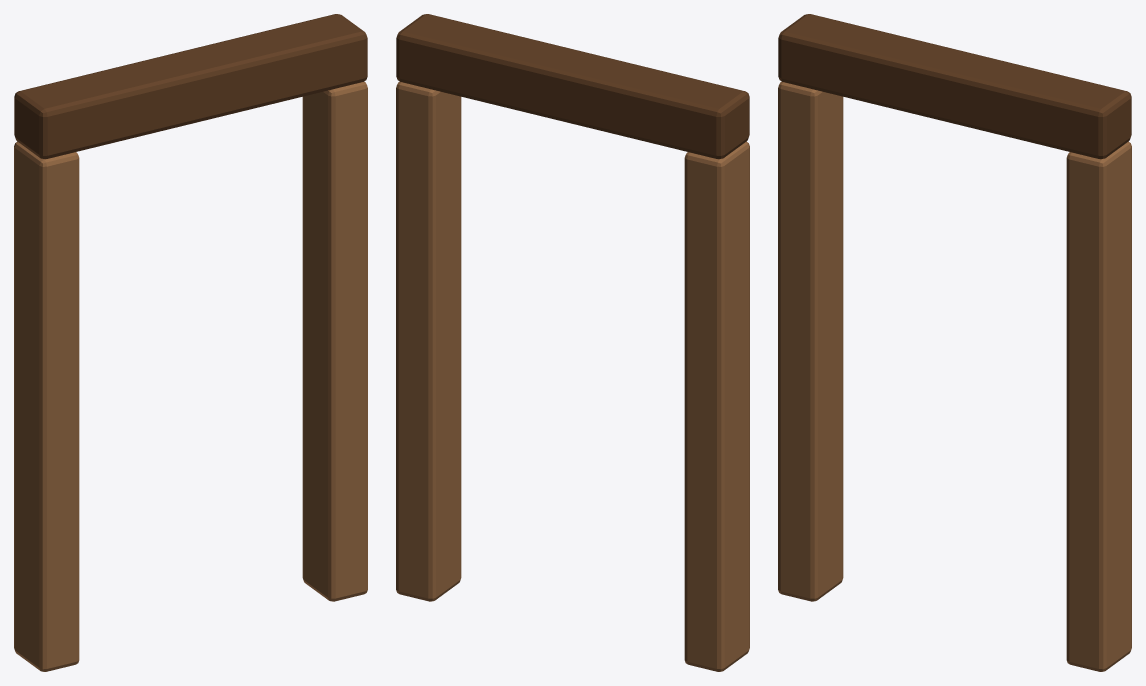
The model's file is door_frame_1p5x2p46.glb.
3 renders of one model, left to right at view 1: azimuth 30°, elevation 25°; view 2: azimuth 150°, elevation 25°; view 3: azimuth 330°, elevation 25°, orthographic.
Parts seen in each view (by area): view 1: door_frame_left, door_frame_right, door_frame_head; view 2: door_frame_left, door_frame_right, door_frame_head; view 3: door_frame_right, door_frame_left, door_frame_head.
Boxes of the visible parts, left/top/right/bottom form: door_frame_left: left=14, top=141, right=79, bottom=671; door_frame_right: left=302, top=81, right=367, bottom=601; door_frame_head: left=14, top=14, right=367, bottom=159; door_frame_left: left=684, top=141, right=749, bottom=671; door_frame_right: left=396, top=81, right=461, bottom=601; door_frame_head: left=396, top=14, right=749, bottom=159; door_frame_right: left=1066, top=141, right=1131, bottom=671; door_frame_left: left=778, top=81, right=843, bottom=601; door_frame_head: left=778, top=14, right=1131, bottom=159.
Bounding box in the file's own units: 1.5 × 2.46 × 0.24.
